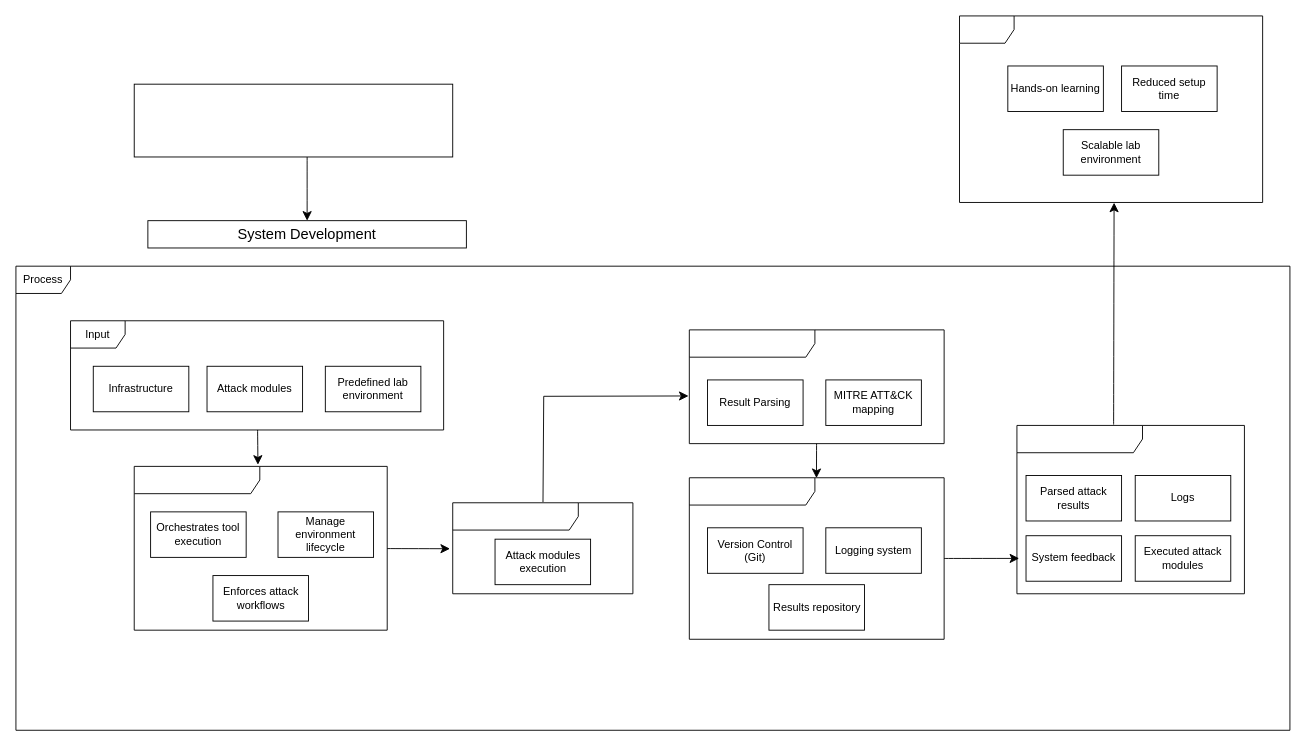
This 1306x746 diagram has some shape labels left out. The shapes that lost their labels are listed below. From the top down, each one's box as (x1, y1, x2, y2) in pixels, then its label:
(133, 83, 453, 157): Lab Infrastructure (Network, VMs, SOC, etc)
(959, 15, 1263, 202): Outcome
(688, 329, 944, 444): Processing Layer
(1016, 425, 1244, 594): Output variables
(133, 465, 387, 630): Automation Engine
(452, 502, 633, 594): Execution Layer
(688, 477, 944, 639): Storage Layer
